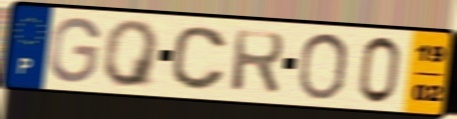0: (356, 35, 404, 105)
C: (168, 24, 229, 93)
G: (46, 15, 103, 85)
O: (294, 31, 352, 102)
Q: (101, 18, 163, 90)
R: (228, 28, 288, 97)
